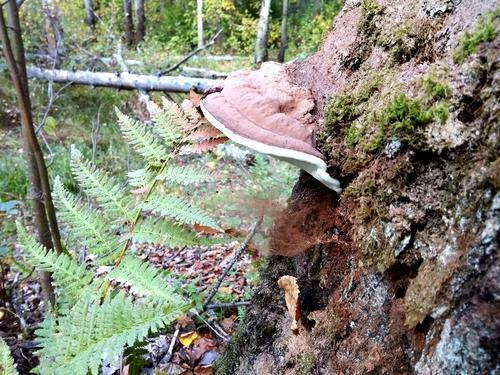Ganoderma - Fruit Body: (204, 62, 343, 200)
